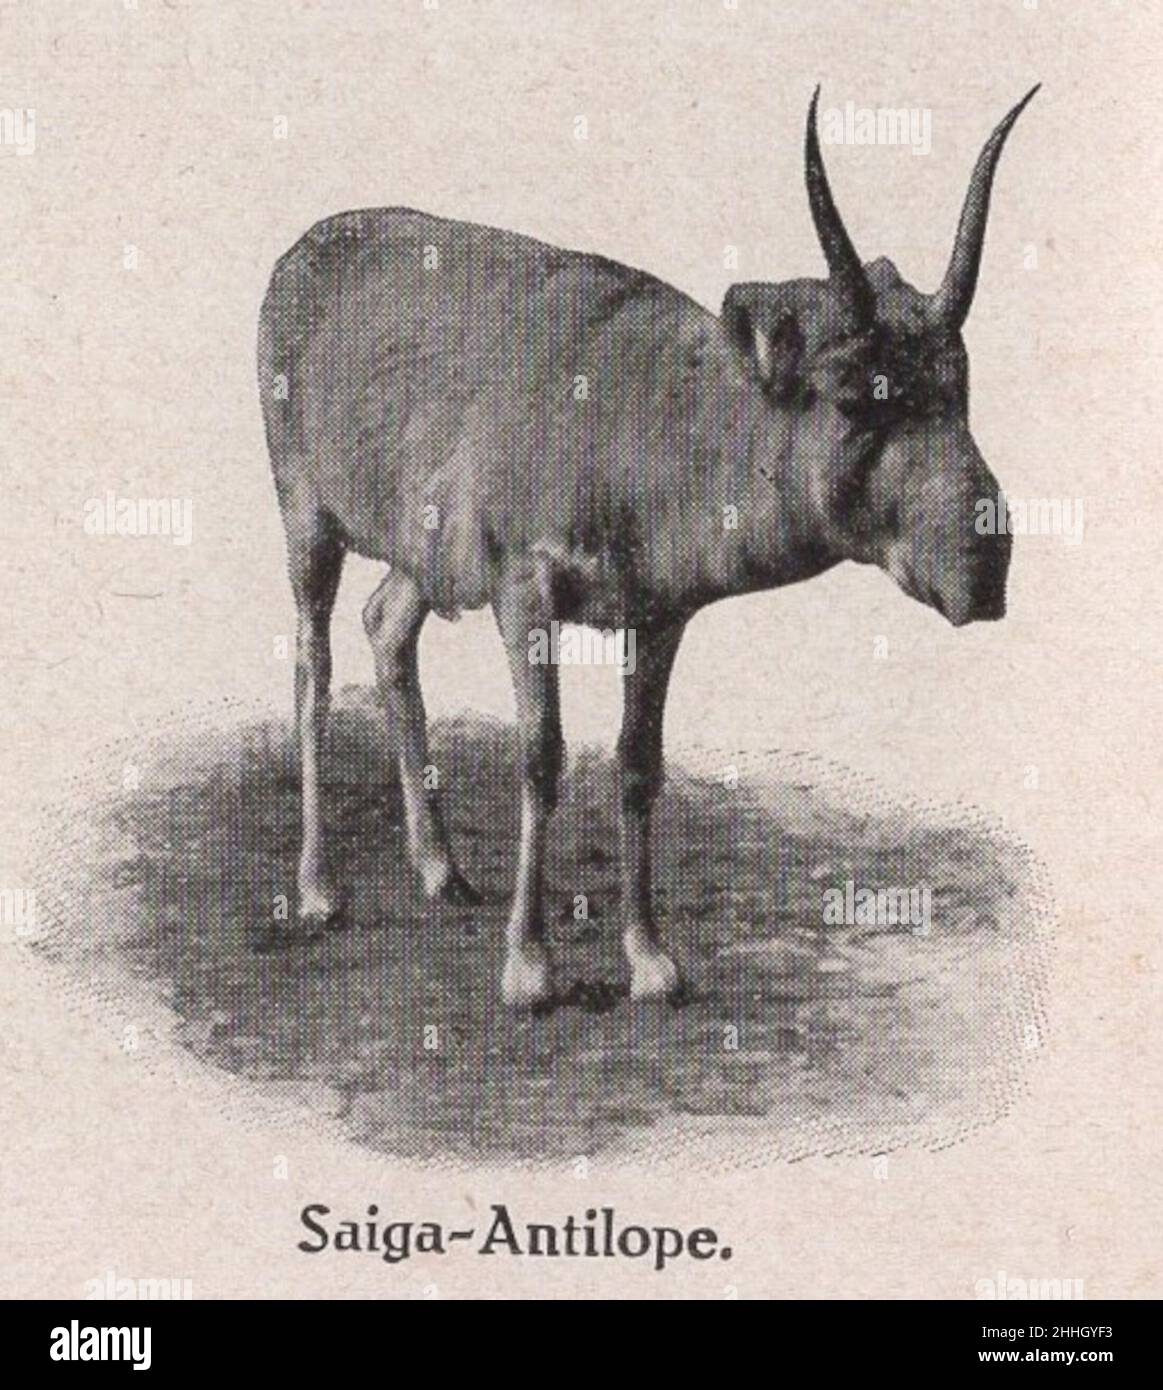saiga: (247, 74, 1048, 1012)
